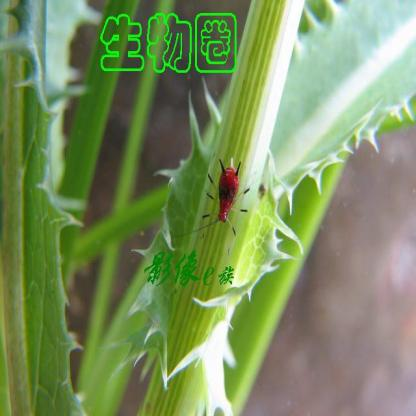aphid: (196, 150, 254, 244)
